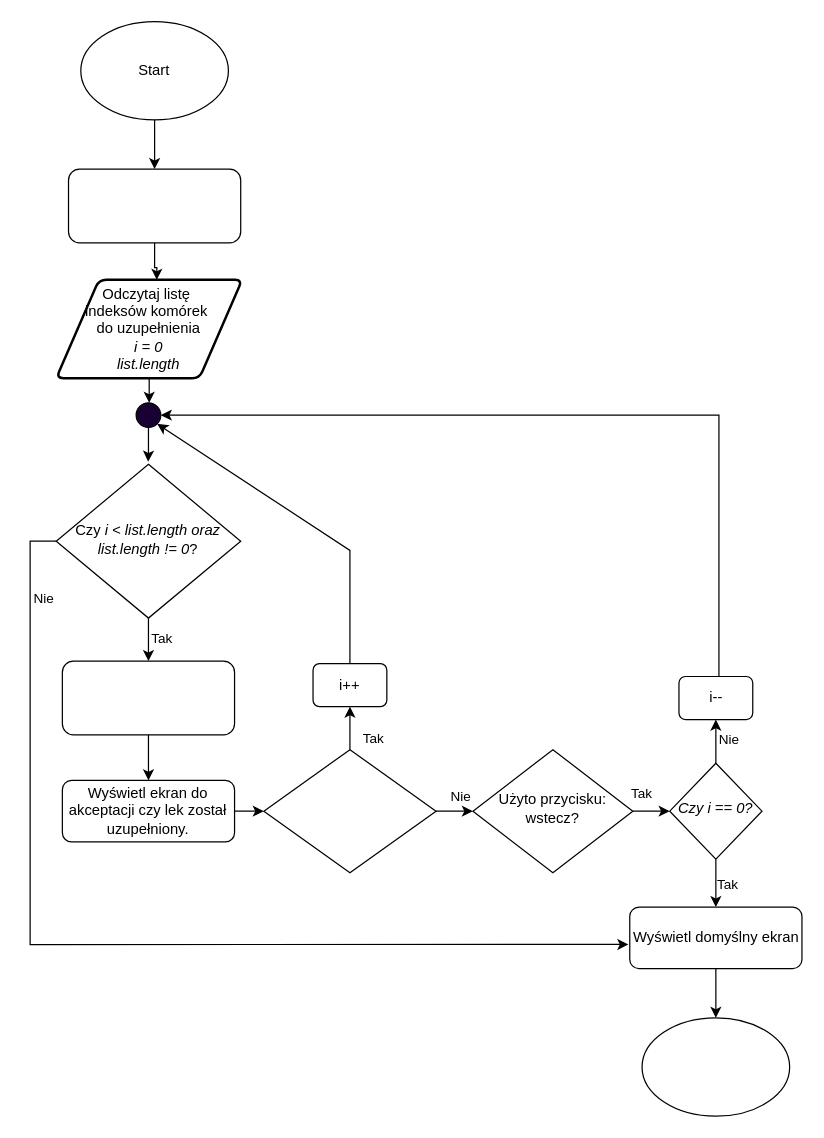
Image size: 824x1138. Some labels were removed from this diagram. The centre of each missing label's shape, as x and y in pixels:
"Koniec" goes at (715,1066).
"Ustaw komórkę o indeksie i" goes at (148,697).
"Użyto przycisku potwierdzenia?" goes at (349,810).
"Wyświetl ekran początkowy z informacją o rozpoczęciu procedury dla danego leku" goes at (154,205).
